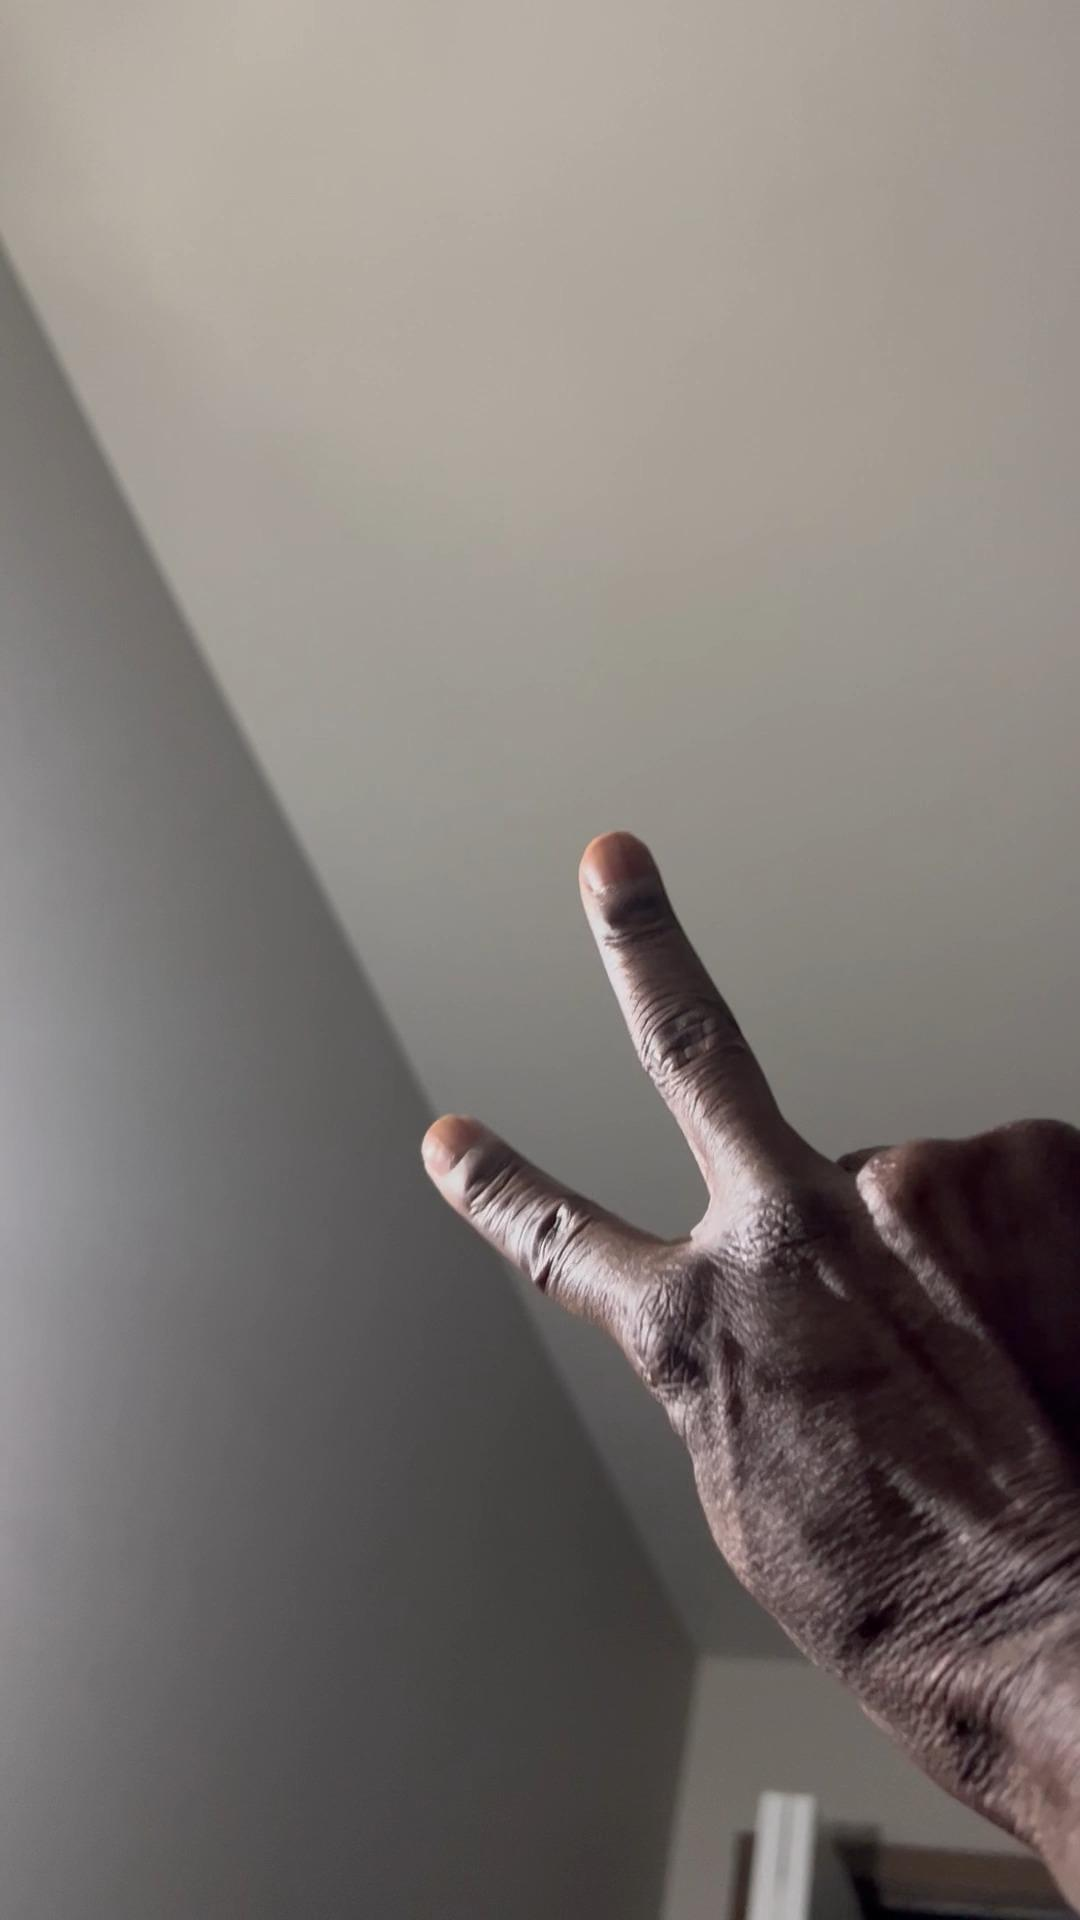Scissors: (417, 828, 1080, 1920)
